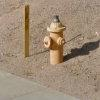a fire hydrant: (42, 14, 68, 66)
